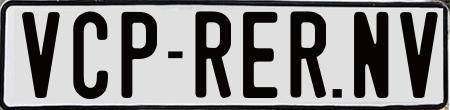C: (72, 9, 108, 100)
E: (240, 9, 277, 98)
N: (353, 12, 390, 99)
P: (119, 12, 156, 98)
R: (193, 9, 234, 97), (290, 10, 329, 99)
V: (22, 11, 61, 97), (398, 10, 435, 97)
